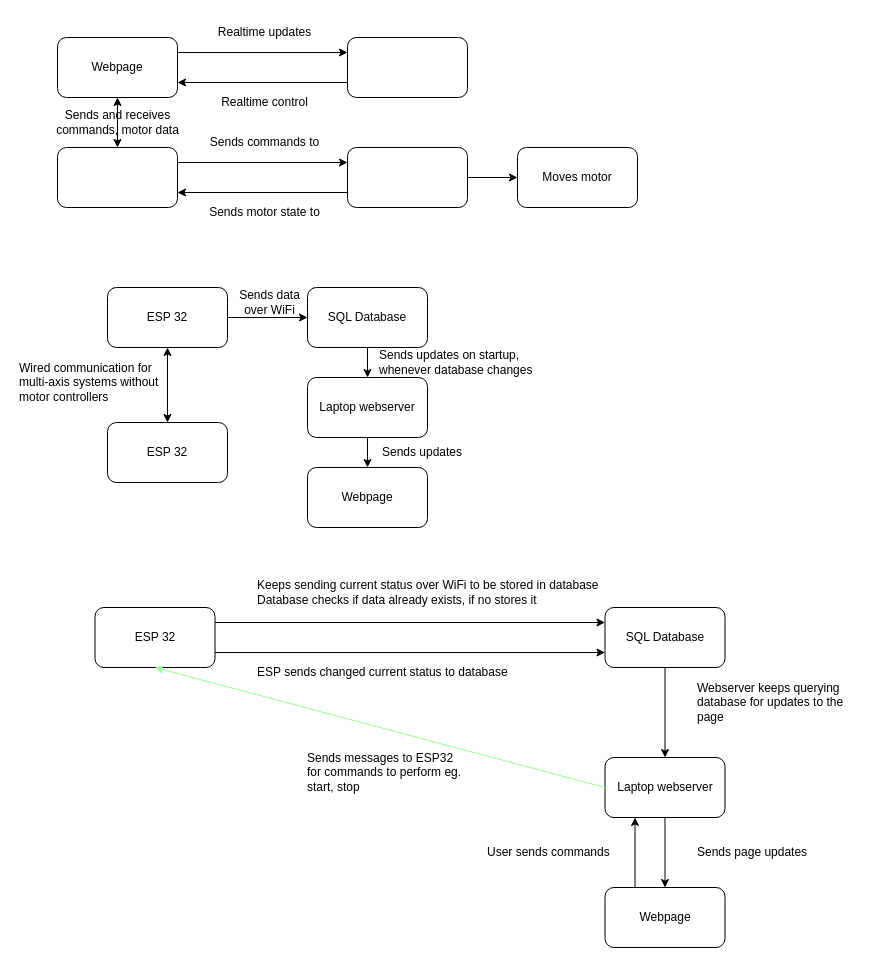
This 892x965 diagram has some shape labels left out. Here are the shapes that lost their labels. From the top down, the centre of each, then its label:
point (407, 67): User
point (117, 177): ESP 32 microcontrollers
point (407, 177): Motor drives
